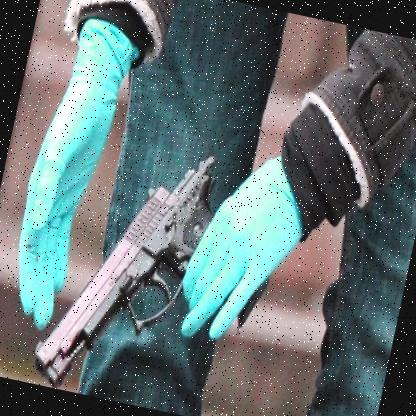rifle: (19, 124, 286, 416)
